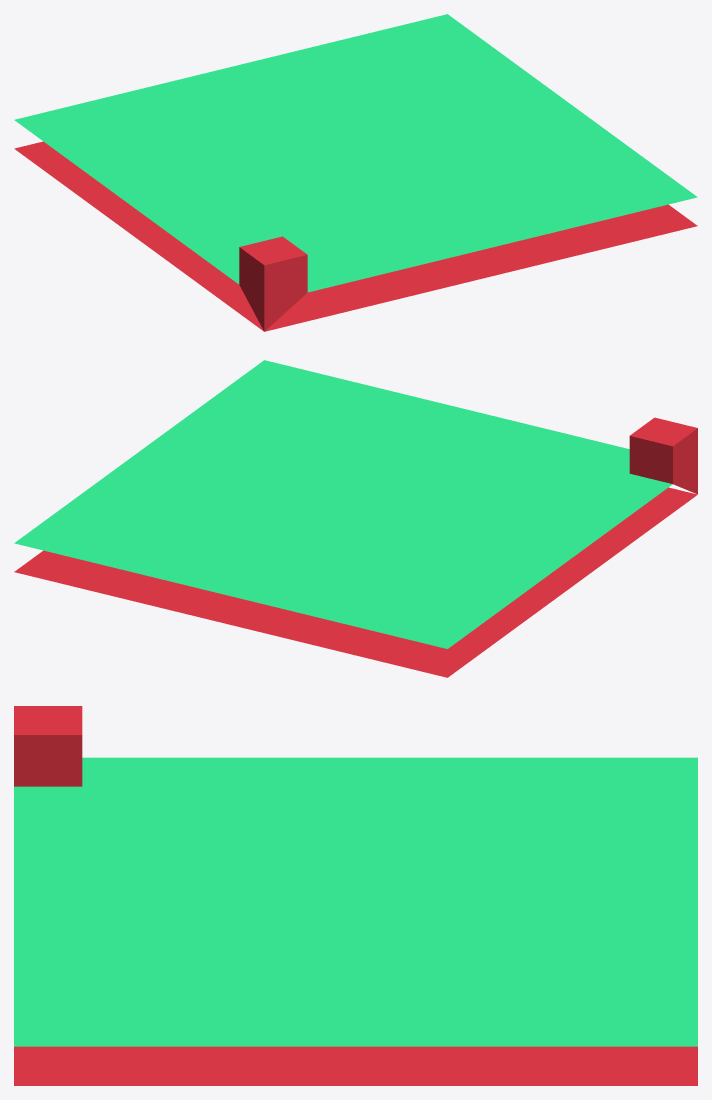
File: innerCorner.fbx
3 renders of one model, top to bottom at view 1: azimuth 30°, elevation 25°; view 2: azimuth 150°, elevation 25°; view 3: azimuth 270°, elevation 25°, orthographic. The views are drawn at different scales.
Parts seen in each view (by area): view 1: innerCorner; view 2: innerCorner; view 3: innerCorner.
Part boxes in pixels (bbox=[...]): innerCorner: bbox=[14, 14, 697, 331]; innerCorner: bbox=[14, 360, 697, 677]; innerCorner: bbox=[14, 706, 697, 1085].
Size of the model in its own units: 99.99 by 99.99 by 14.67.
